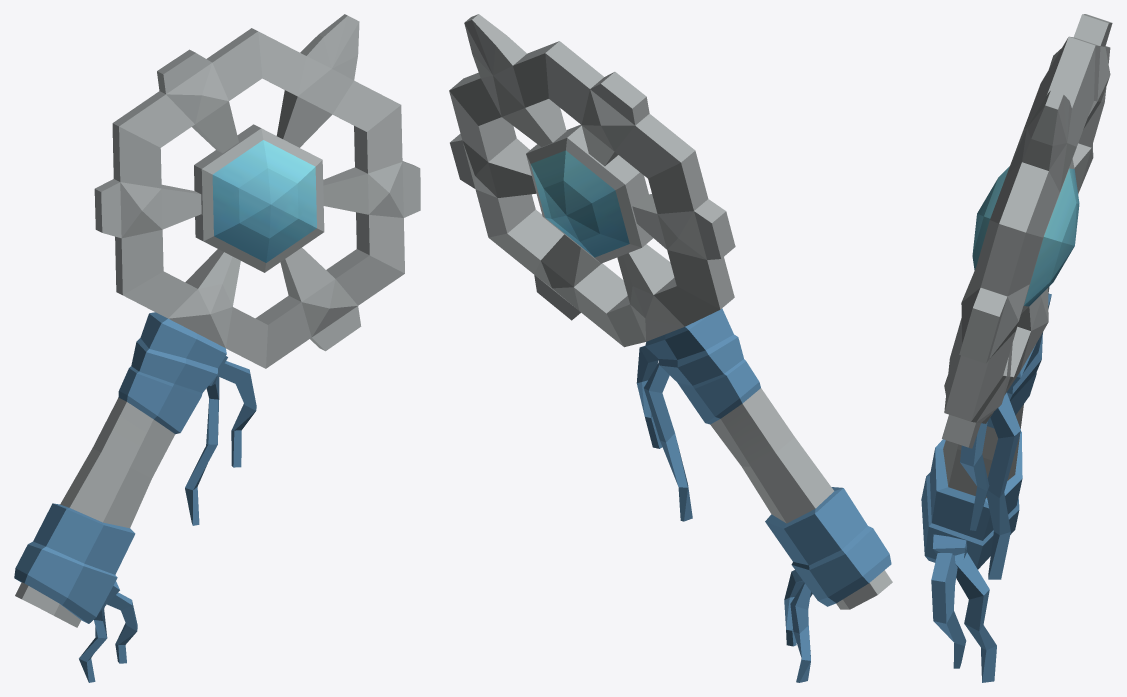
File: talismanIce.fbx
The picture shows the model from 3 angles, left to right: view 1: azimuth 30°, elevation 25°; view 2: azimuth 150°, elevation 25°; view 3: azimuth 270°, elevation 25°; orthographic projection. The views are drawn at different scales.
Parts seen in each view (by area): view 1: talismanIce; view 2: talismanIce; view 3: talismanIce.
Boxes of the visible parts, <box> form: talismanIce: <box>14,14,420,682</box>; talismanIce: <box>449,14,892,682</box>; talismanIce: <box>921,14,1112,682</box>.
Bounding box in the file's own units: 1.25 × 1.7 × 0.3812.
Materials: 1 (1 with a texture image).
